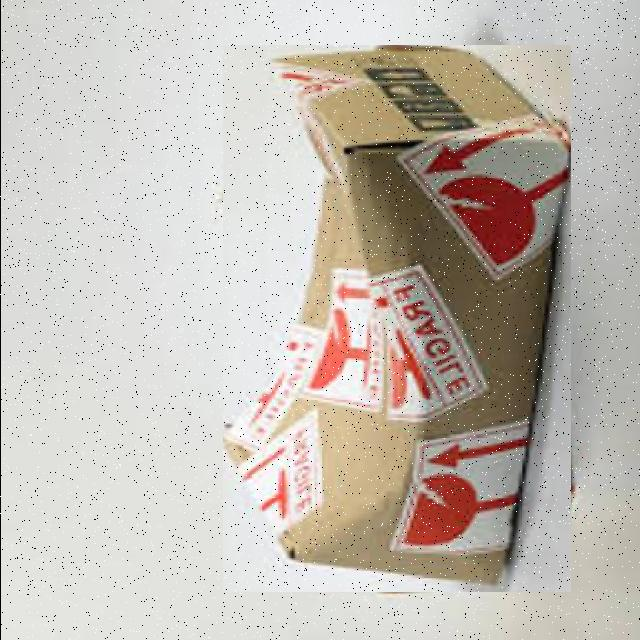defect: (222, 45, 570, 592)
